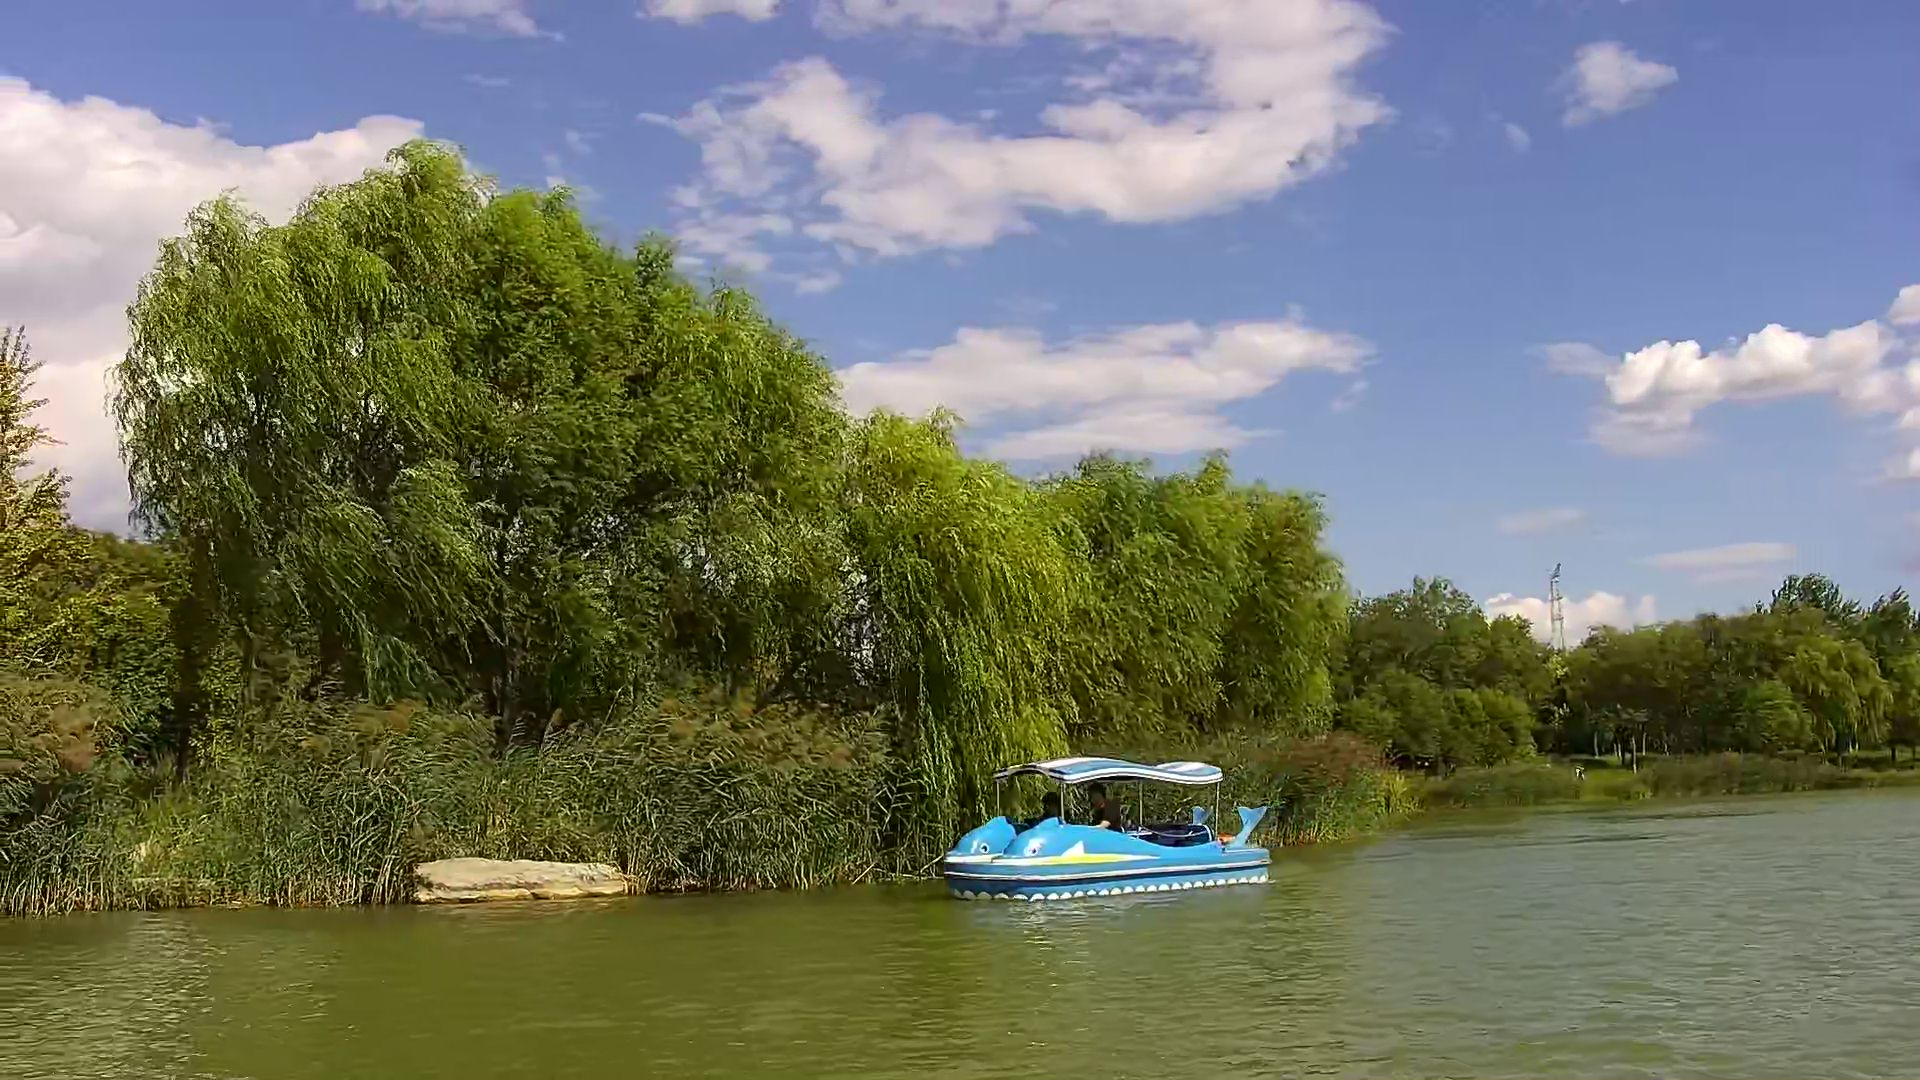boat: (940, 761, 1274, 902)
person: (1085, 783, 1125, 836), (1038, 791, 1067, 826)
rock: (409, 854, 631, 906)
